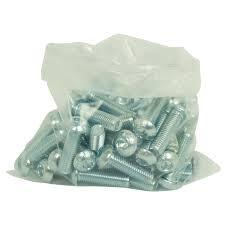Plastic bag: (11, 20, 215, 202)
